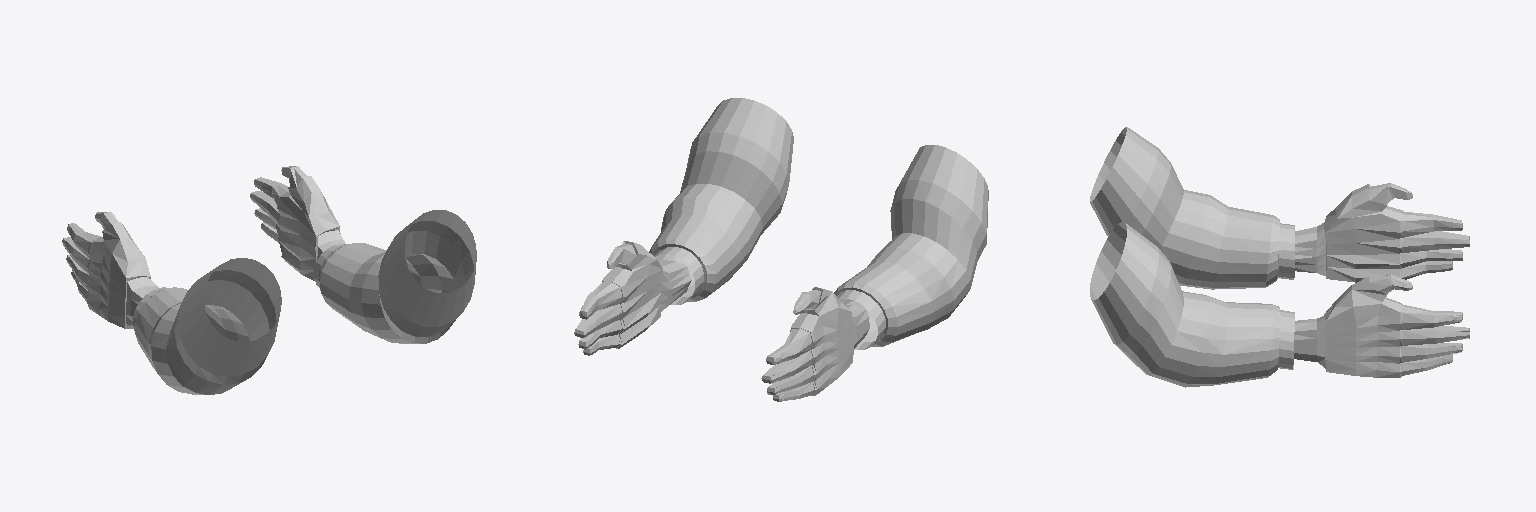
File: Arms.obj
3 views of the same model, side by side, from view 1: azimuth 30°, elevation 25°; view 2: azimuth 150°, elevation 25°; view 3: azimuth 270°, elevation 25° (orthographic).
Visible parts, largest first — view 1: polySurface31; view 2: polySurface31; view 3: polySurface31.
Part boxes in pixels (left/top/right/bottom): polySurface31: left=62, top=166, right=476, bottom=394; polySurface31: left=574, top=98, right=988, bottom=401; polySurface31: left=1090, top=127, right=1469, bottom=387.
Bounding box in the file's own units: 20.62 × 10.38 × 23.13.